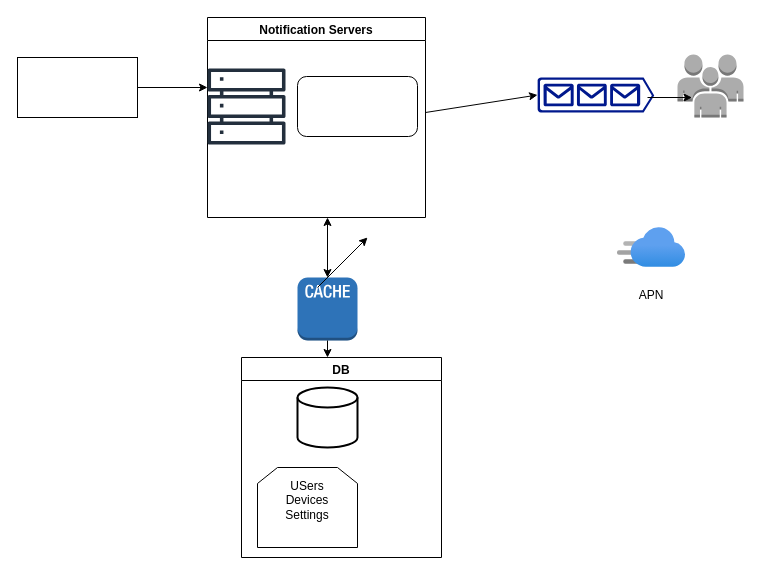
This 761x575 diagram has some shape labels left out. The centre of each missing label's shape, as x and y in pixels:
Authetication/Rate Limiting: the point at 357,106
Service 1...N: the point at 77,87
